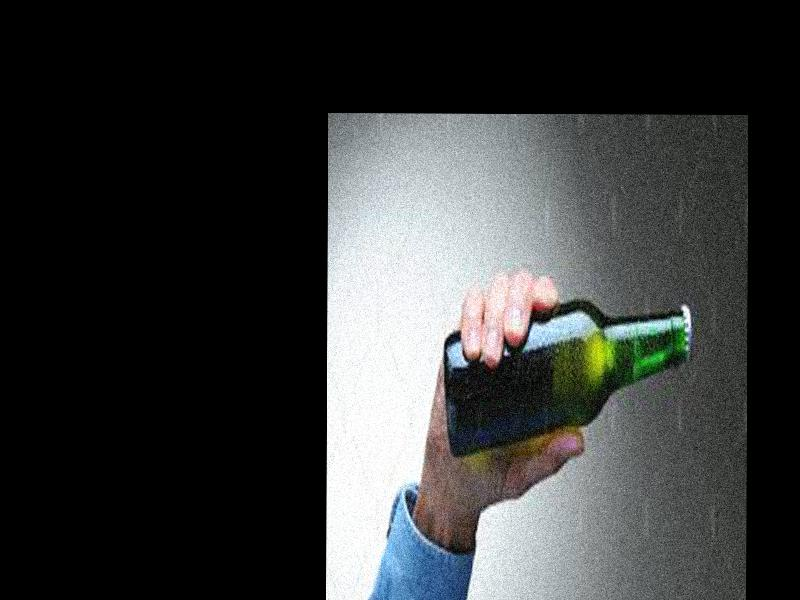Beer: (442, 300, 695, 460)
